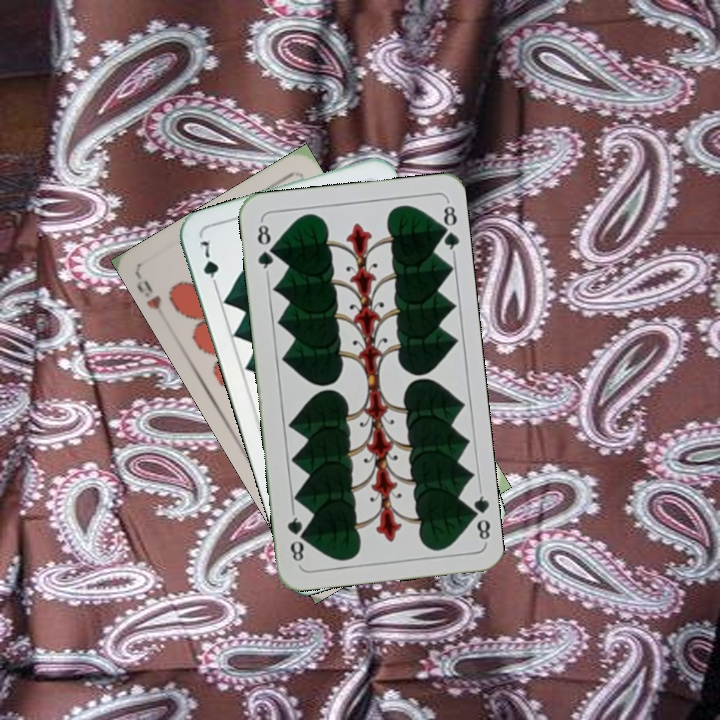G7: (196, 236, 221, 293)
G8: (463, 486, 493, 545), (253, 217, 277, 276)
H9: (133, 276, 164, 312)
